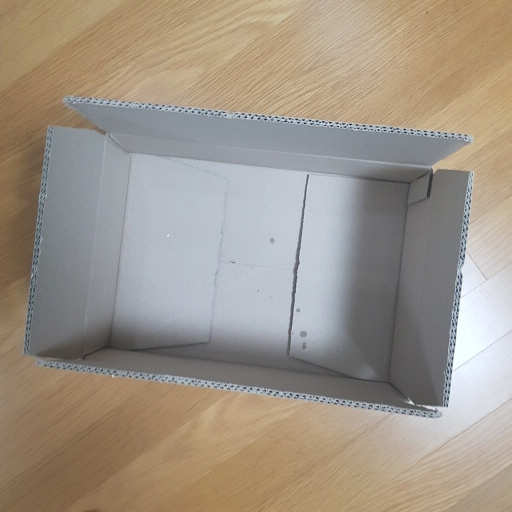Paper_0: (17, 90, 474, 424)
